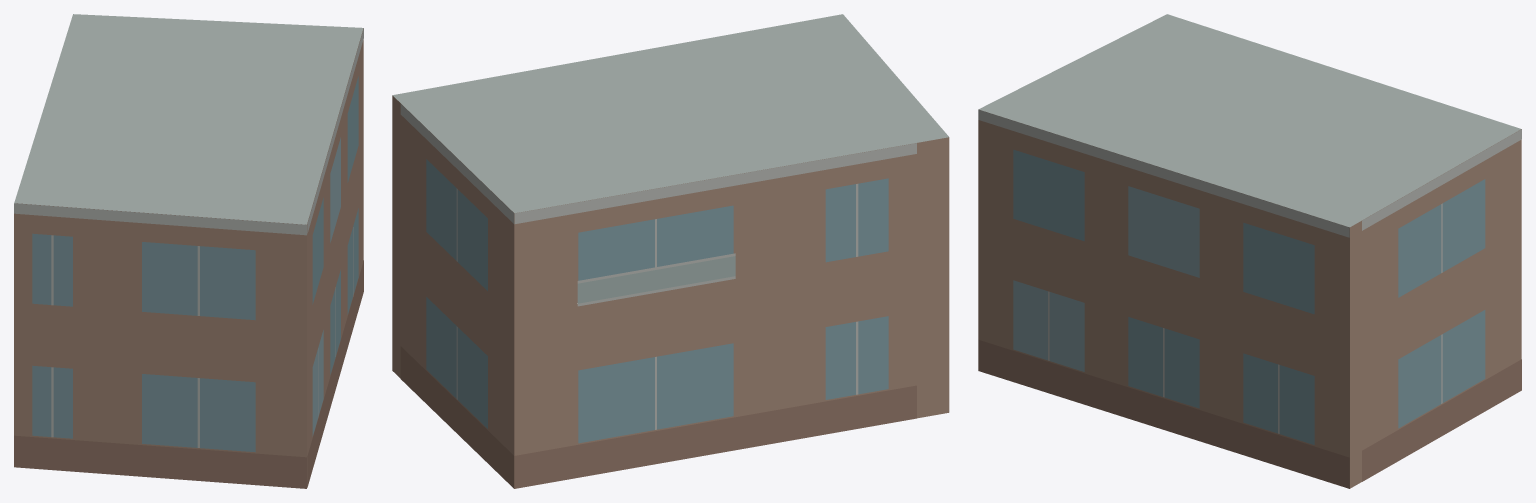
File: survey-upis-32564185.glb
The picture shows the model from 3 angles, left to right: view 1: azimuth 30°, elevation 25°; view 2: azimuth 150°, elevation 25°; view 3: azimuth 270°, elevation 25°; orthographic projection. The views are drawn at different scales.
Parts seen in each view (by area): view 1: survey-upis-32564185.tmp; view 2: survey-upis-32564185.tmp; view 3: survey-upis-32564185.tmp.
Boxes of the visible parts, x1,y1,x2,y2 form: survey-upis-32564185.tmp: (14, 14, 363, 488); survey-upis-32564185.tmp: (392, 14, 949, 488); survey-upis-32564185.tmp: (978, 14, 1521, 488).
Size of the model in its own units: 10.69 by 6.1 by 11.5.
